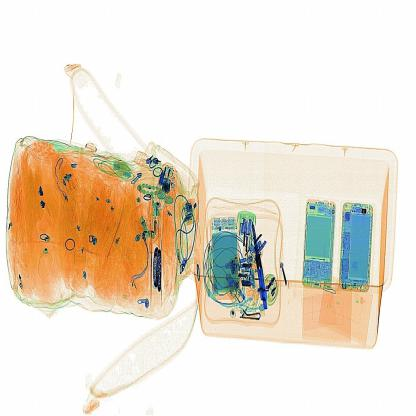gun: (246, 214, 275, 311)
